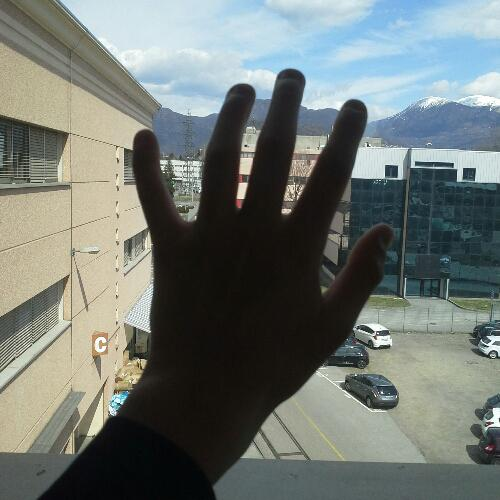paper: (122, 62, 400, 432)
